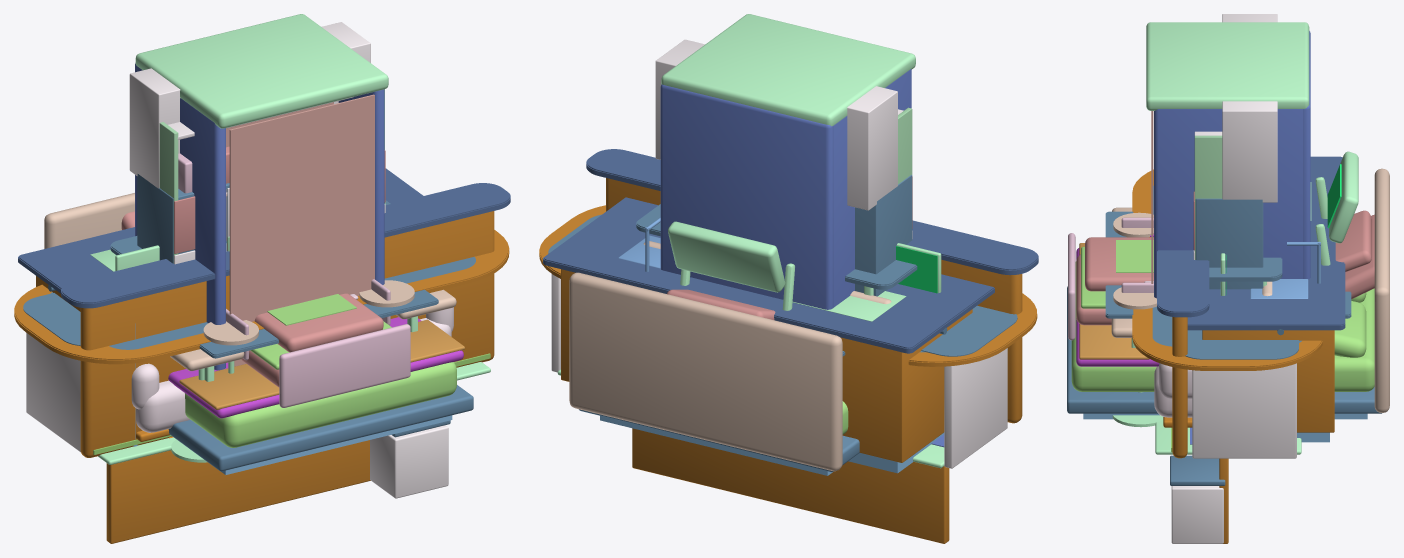
The model's file is items2.glb.
The picture shows the model from 3 angles, left to right: view 1: azimuth 30°, elevation 25°; view 2: azimuth 150°, elevation 25°; view 3: azimuth 270°, elevation 25°; orthographic projection. The views are drawn at different scales.
Parts seen in each view (by area): view 1: mesh_phone_booth, mesh_nurse_desk, mesh_bed_double, mesh_headwall, mesh_med_bed, mesh_island, mesh_meeting_table, mesh_kitchenette, mesh_exam_table, mesh_lockers, mesh_sofa_straight, mesh_shelf_stock (+4 smaller); view 2: mesh_phone_booth, mesh_bed_double, mesh_island, mesh_nurse_desk, mesh_headwall, mesh_kitchenette, mesh_treadmill, mesh_lockers, mesh_meeting_table, mesh_high_table, mesh_shelf_stock, mesh_exam_table (+1 smaller); view 3: mesh_phone_booth, mesh_nurse_desk, mesh_bed_double, mesh_island, mesh_kitchenette, mesh_lockers, mesh_headwall, mesh_exam_table, mesh_med_bed, mesh_meeting_table, mesh_treadmill, mesh_high_table (+5 smaller).
Boxes of the visible parts, left/top/right/bottom form: mesh_phone_booth: left=135, top=14, right=388, bottom=370; mesh_nurse_desk: left=23, top=183, right=510, bottom=457; mesh_bed_double: left=44, top=193, right=473, bottom=474; mesh_headwall: left=106, top=420, right=450, bottom=543; mesh_med_bed: left=121, top=211, right=410, bottom=407; mesh_island: left=18, top=168, right=456, bottom=462; mesh_meeting_table: left=14, top=230, right=509, bottom=364; mesh_kitchenette: left=129, top=22, right=370, bottom=188; mesh_exam_table: left=254, top=293, right=383, bottom=352; mesh_lockers: left=137, top=150, right=385, bottom=264; mesh_sofa_straight: left=131, top=307, right=453, bottom=441; mesh_shelf_stock: left=159, top=89, right=384, bottom=263; mesh_phone_booth: left=660, top=14, right=915, bottom=309; mesh_bed_double: left=569, top=272, right=859, bottom=475; mesh_island: left=543, top=197, right=994, bottom=473; mesh_nurse_desk: left=548, top=149, right=1038, bottom=468; mesh_headwall: left=632, top=428, right=949, bottom=543; mesh_kitchenette: left=655, top=39, right=897, bottom=210; mesh_treadmill: left=668, top=221, right=794, bottom=310; mesh_lockers: left=855, top=175, right=912, bottom=296; mesh_meeting_table: left=539, top=205, right=1037, bottom=366; mesh_high_table: left=636, top=204, right=917, bottom=295; mesh_shelf_stock: left=898, top=107, right=912, bottom=184; mesh_exam_table: left=667, top=289, right=775, bottom=319; mesh_phone_booth: left=1146, top=22, right=1310, bottom=298; mesh_nurse_desk: left=1157, top=250, right=1298, bottom=458; mesh_bed_double: left=1067, top=168, right=1389, bottom=419; mesh_island: left=1111, top=156, right=1345, bottom=442; mesh_kitchenette: left=1222, top=14, right=1277, bottom=202; mesh_lockers: left=1193, top=191, right=1263, bottom=289; mesh_headwall: left=1170, top=455, right=1228, bottom=543; mesh_exam_table: left=1085, top=210, right=1371, bottom=291; mesh_med_bed: left=1068, top=214, right=1374, bottom=340; mesh_meeting_table: left=1132, top=169, right=1322, bottom=370; mesh_treadmill: left=1315, top=151, right=1358, bottom=265; mesh_high_table: left=1113, top=212, right=1282, bottom=309.
Size of the model in its own units: 3.2 by 2.97 by 2.1.
